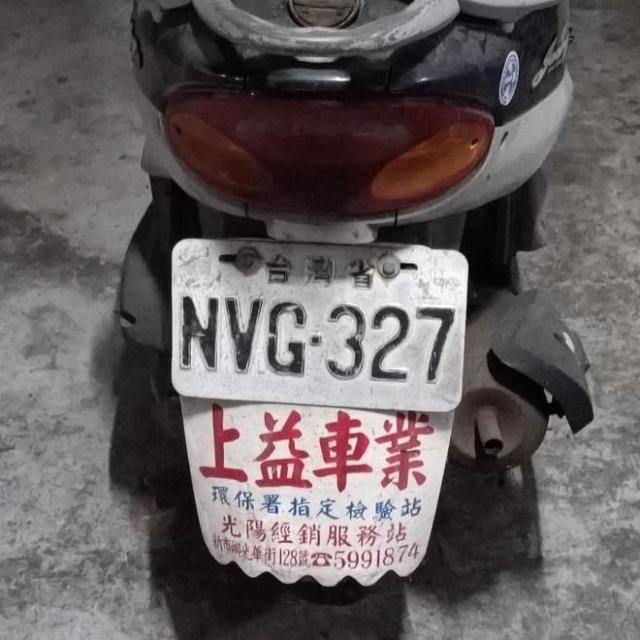W: (156, 217, 478, 412)
